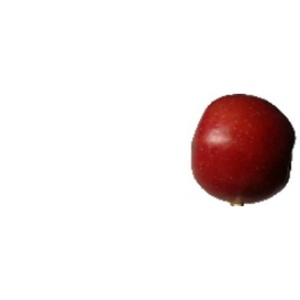maçã braeburn: (188, 92, 296, 203)
